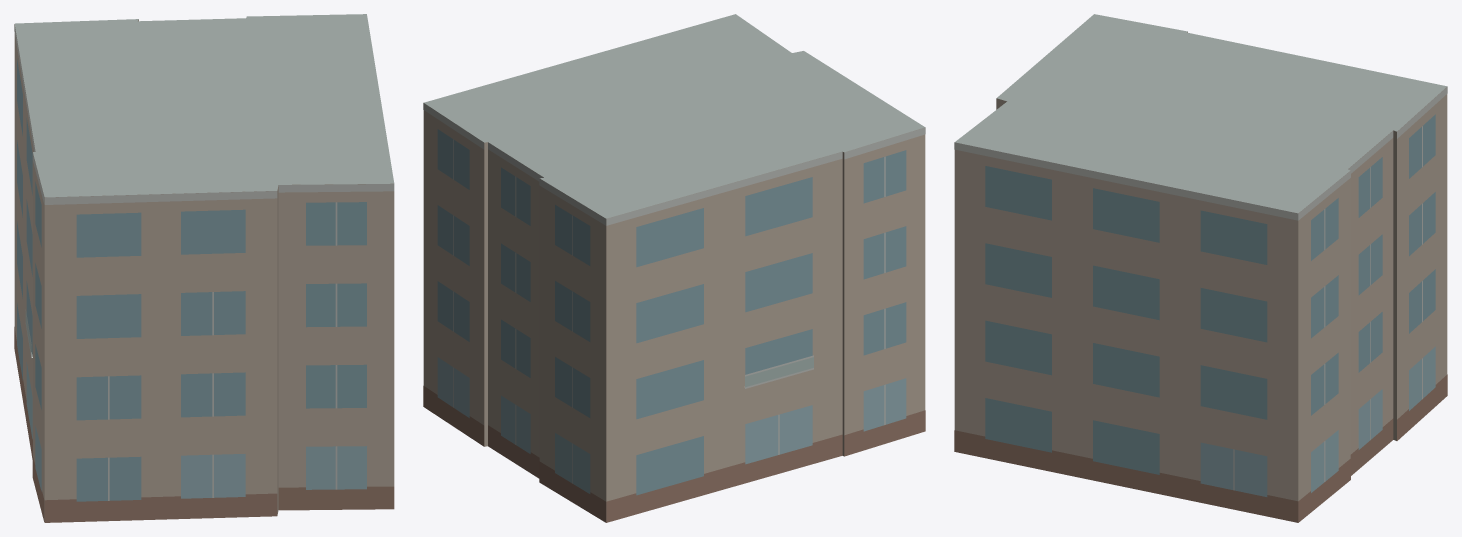
The model's file is survey-upis-32581407.glb.
3 renders of one model, left to right at view 1: azimuth 30°, elevation 25°; view 2: azimuth 150°, elevation 25°; view 3: azimuth 270°, elevation 25°, orthographic. The views are drawn at different scales.
Parts seen in each view (by area): view 1: survey-upis-32581407.tmp; view 2: survey-upis-32581407.tmp; view 3: survey-upis-32581407.tmp.
Boxes of the visible parts, x1=… form: survey-upis-32581407.tmp: x1=14, y1=14, x2=394, y2=522; survey-upis-32581407.tmp: x1=423, y1=14, x2=925, y2=522; survey-upis-32581407.tmp: x1=954, y1=14, x2=1447, y2=522.
Size of the model in its own units: 14.38 by 10.4 by 15.02.
